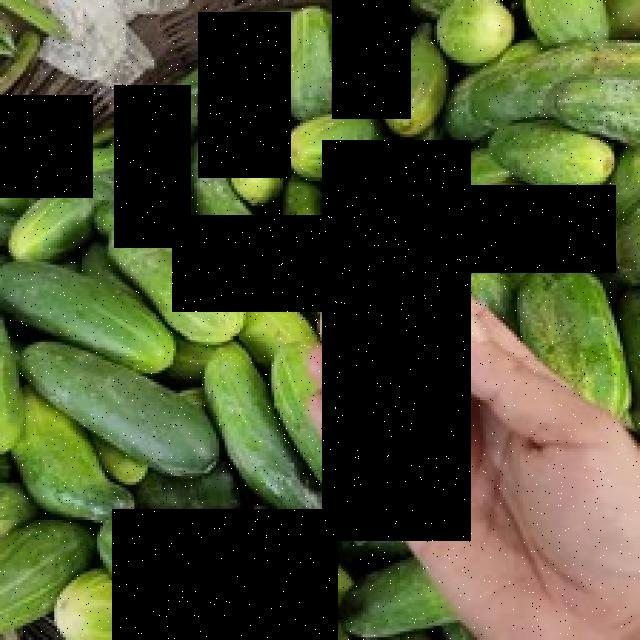Cucumber: (322, 140, 472, 541), (29, 333, 246, 497), (112, 509, 338, 640), (4, 253, 183, 395), (172, 215, 354, 312), (199, 13, 292, 179), (468, 185, 616, 273), (115, 85, 192, 248), (0, 95, 93, 198), (332, 0, 412, 119)
